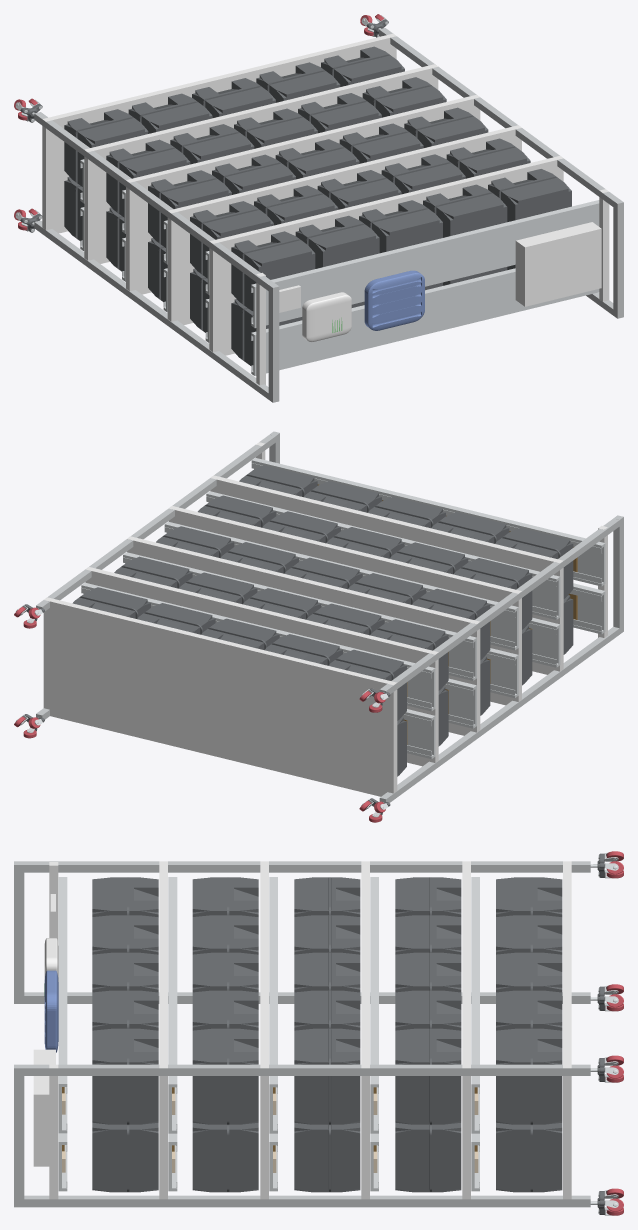
The model's file is UHF-5-5-2.glb.
3 renders of one model, top to bottom at view 1: azimuth 30°, elevation 25°; view 2: azimuth 150°, elevation 25°; view 3: azimuth 270°, elevation 25°, orthographic. The views are drawn at different scales.
Visible parts, largest first — view 1: g group_20_12568524, g group_11_12568524, g group_31_10988977, g group_8_16448250, g group_6_16448250, g group_5_16448250, g group_9_16448250, g group_7_16448250, g group_0_16448250, g group_30_10988977, g group_114_2829873, g group_4_3888547 (+40 smaller); view 2: g group_5_16448250, g group_31_10988977, g group_7_16448250, g group_6_16448250, g group_9_16448250, g group_8_16448250, g group_20_12568524, g group_30_10988977, g group_41_12568524, g group_77_12568524, g group_59_12568524, g group_95_12568524 (+36 smaller); view 3: g group_30_10988977, g group_31_10988977, g group_113_2829873, g group_130_2829873, g group_150_2829873, g group_190_2829873, g group_170_2829873, g group_175_2829873, g group_109_2829873, g group_195_2829873, g group_155_2829873, g group_135_2829873 (+66 smaller).
Part boxes in pixels (left/top/right/bottom): g group_20_12568524: left=251, top=200, right=599, bottom=328; g group_11_12568524: left=251, top=268, right=599, bottom=375; g group_31_10988977: left=34, top=112, right=279, bottom=402; g group_8_16448250: left=167, top=125, right=521, bottom=324; g group_6_16448250: left=84, top=64, right=438, bottom=263; g group_5_16448250: left=42, top=33, right=396, bottom=233; g group_9_16448250: left=209, top=156, right=563, bottom=355; g group_7_16448250: left=126, top=94, right=480, bottom=294; g group_0_16448250: left=515, top=222, right=601, bottom=306; g group_30_10988977: left=379, top=28, right=623, bottom=318; g group_114_2829873: left=231, top=231, right=315, bottom=310; g group_4_3888547: left=364, top=270, right=424, bottom=330; g group_5_16448250: left=43, top=597, right=397, bottom=796; g group_31_10988977: left=379, top=515, right=623, bottom=802; g group_7_16448250: left=127, top=536, right=480, bottom=735; g group_6_16448250: left=85, top=567, right=438, bottom=766; g group_9_16448250: left=210, top=475, right=563, bottom=674; g group_8_16448250: left=168, top=506, right=521, bottom=705; g group_20_12568524: left=251, top=458, right=605, bottom=586; g group_30_10988977: left=36, top=431, right=279, bottom=719; g group_41_12568524: left=81, top=582, right=435, bottom=711; g group_77_12568524: left=164, top=521, right=518, bottom=650; g group_59_12568524: left=123, top=552, right=476, bottom=680; g group_95_12568524: left=206, top=491, right=560, bottom=619; g group_30_10988977: left=14, top=1064, right=590, bottom=1207; g group_31_10988977: left=14, top=861, right=590, bottom=1003; g group_113_2829873: left=92, top=1028, right=158, bottom=1124; g group_130_2829873: left=192, top=1028, right=258, bottom=1124; g group_150_2829873: left=294, top=1028, right=360, bottom=1124; g group_190_2829873: left=496, top=1028, right=562, bottom=1124; g group_170_2829873: left=395, top=1028, right=461, bottom=1124; g group_175_2829873: left=395, top=1122, right=461, bottom=1192; g group_109_2829873: left=92, top=1122, right=158, bottom=1192; g group_195_2829873: left=496, top=1122, right=562, bottom=1192; g group_155_2829873: left=294, top=1122, right=360, bottom=1192; g group_135_2829873: left=192, top=1123, right=258, bottom=1192.
Size of the model in its own units: 148 by 49.6 by 175.
